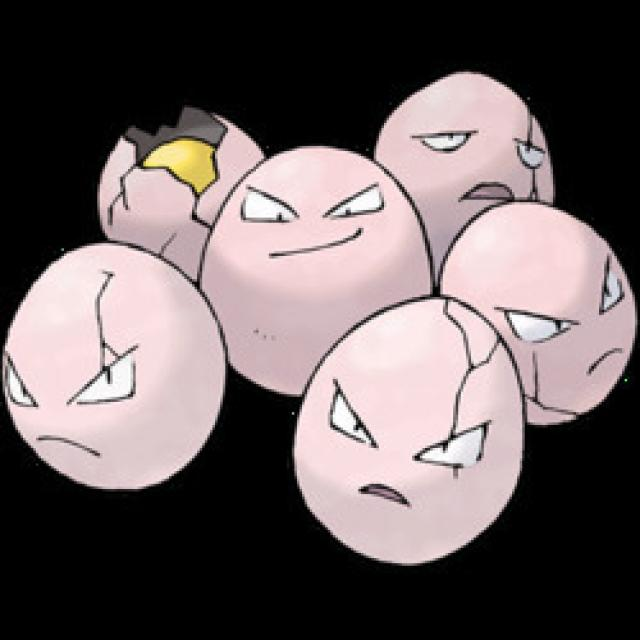Exeggcute: (8, 65, 637, 579)
